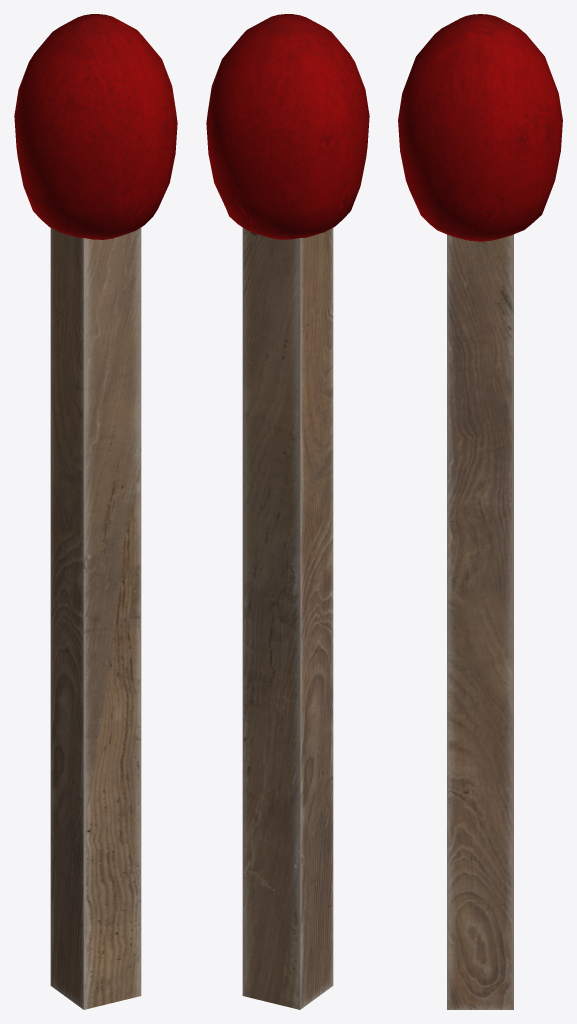
The model's file is match.fbx.
The picture shows the model from 3 angles, left to right: view 1: azimuth 30°, elevation 25°; view 2: azimuth 150°, elevation 25°; view 3: azimuth 270°, elevation 25°; orthographic projection.
Parts seen in each view (by area): view 1: pCube1, pSphere1; view 2: pCube1, pSphere1; view 3: pCube1, pSphere1.
Boxes of the visible parts, box(x1,y1,x2,y2) form: pCube1: box(50, 227, 141, 1009); pSphere1: box(14, 14, 177, 239); pCube1: box(242, 228, 333, 1009); pSphere1: box(206, 14, 369, 239); pCube1: box(447, 234, 513, 1009); pSphere1: box(398, 14, 562, 241).
Bounding box in the file's own units: 1.34 × 8.78 × 1.34.
